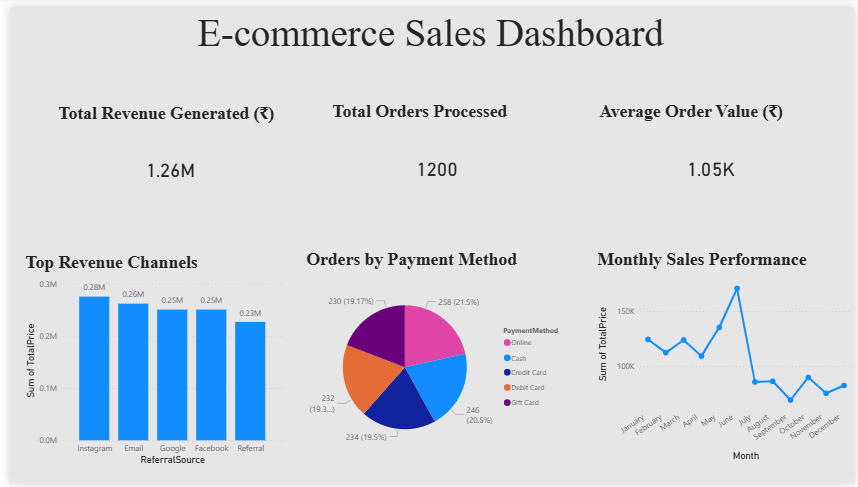

Layout of this report page (visuals, bound fields, positions):
{"tool":"powerbi","page":{"name":"Page 1","canvas":[1280,720],"ordinal":0},"visuals":[{"type":"card","title":"Total Revenue Generated (₹)","fields":{"Values":["Sheet1.Total Revenue"]},"box":[67.7,144,349.9,169.9],"z":0},{"type":"card","title":"Total Orders Processed","fields":{"Values":["Sheet1.Total Orders"]},"box":[483.8,141.1,326.9,172.8],"z":1000},{"type":"card","title":"Average Order Value (₹)","fields":{"Values":["Sheet1.Avg Order Value"]},"box":[888.5,141.1,348.5,172.8],"z":2000},{"type":"clusteredColumnChart","title":"Top Revenue Channels","fields":{"Category":["Sheet1.ReferralSource"],"Y":["Sum(Sheet1.TotalPrice)"]},"box":[18.7,370.1,398.9,328.3],"z":3000},{"type":"pieChart","title":"Orders by Payment Method","fields":{"Category":["Sheet1.PaymentMethod"],"Y":["CountNonNull(Sheet1.OrderID)"]},"box":[443.5,365.8,407.5,328.3],"z":4000},{"type":"lineChart","title":"Monthly Sales Performance","fields":{"Y":["Sum(Sheet1.TotalPrice)"],"Category":["Sheet1.Date.Variation.Date Hierarchy.Year","Sheet1.Date.Variation.Date Hierarchy.Month"]},"box":[885.6,365.8,394.6,325.4],"z":5000},{"type":"textbox","box":[225.4,0,822.4,120],"z":6000}]}

Visuals, with their boxes in screenshot pixels (x1, y1, x2, y2), scaled from the page's 1280x720 canvas onto the 858x487 screenshot:
"Total Revenue Generated (₹)" card: {"x1": 45, "y1": 97, "x2": 280, "y2": 212}
"Total Orders Processed" card: {"x1": 324, "y1": 95, "x2": 543, "y2": 212}
"Average Order Value (₹)" card: {"x1": 596, "y1": 95, "x2": 829, "y2": 212}
"Top Revenue Channels" clusteredColumnChart: {"x1": 13, "y1": 250, "x2": 280, "y2": 472}
"Orders by Payment Method" pieChart: {"x1": 297, "y1": 247, "x2": 570, "y2": 469}
"Monthly Sales Performance" lineChart: {"x1": 594, "y1": 247, "x2": 857, "y2": 468}
textbox: {"x1": 151, "y1": 0, "x2": 702, "y2": 81}
